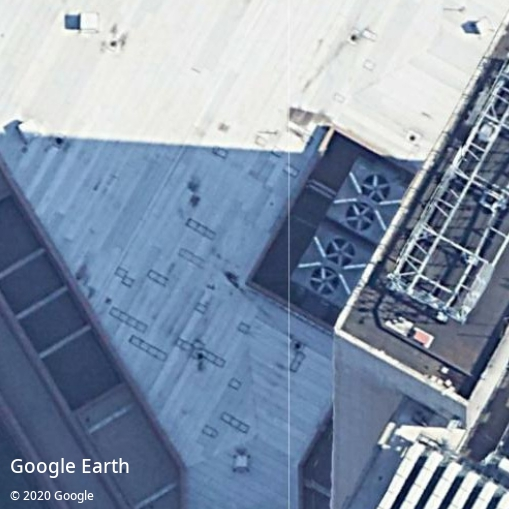Vent: (360, 174, 390, 203), (344, 201, 374, 230), (325, 238, 355, 267), (309, 266, 339, 295)
